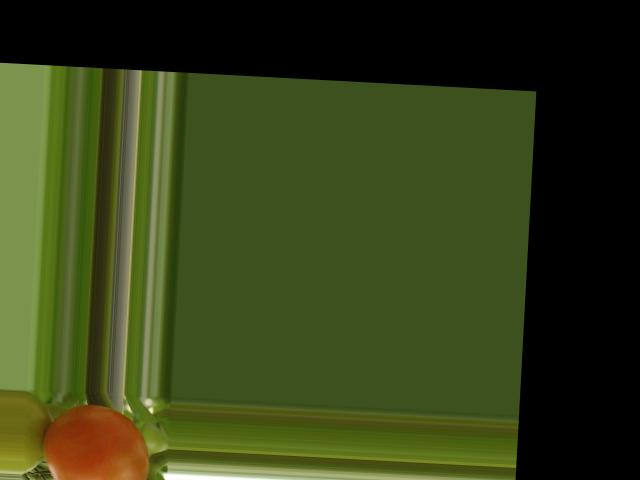tomato: (39, 402, 151, 480)
